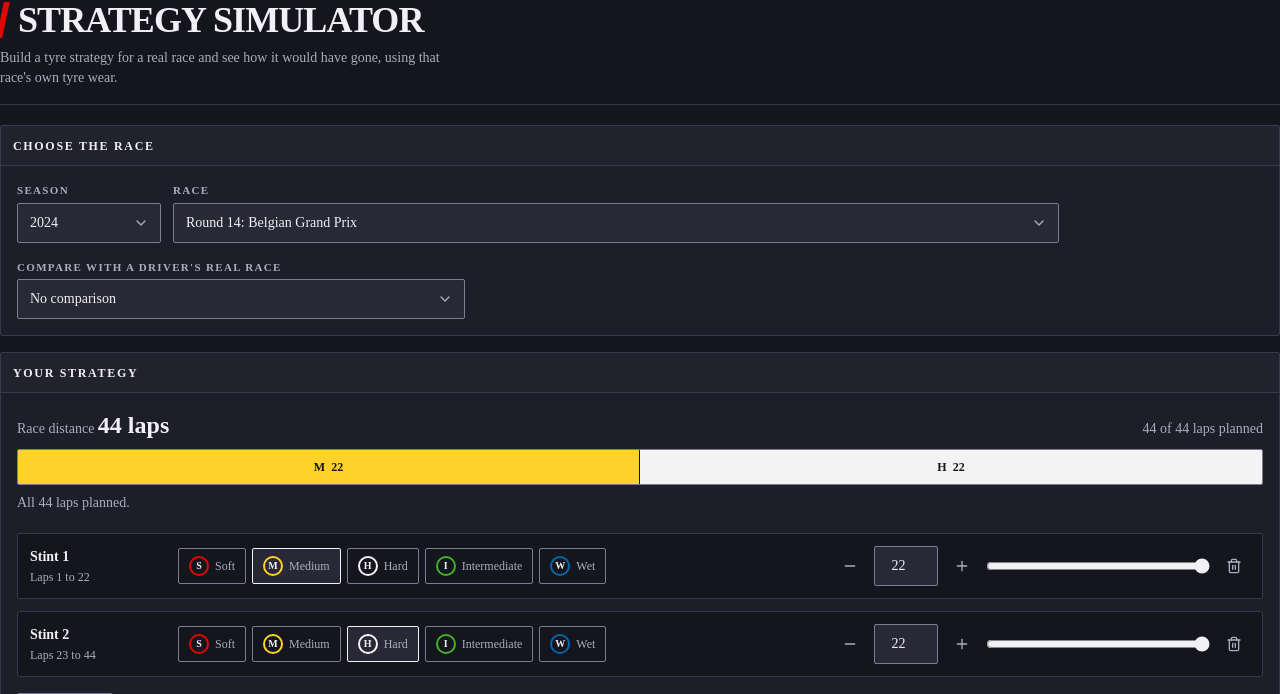
Test case: StrategyTool › won't simulate a plan that doesn't cover the race, and says how many laps are missing
Replace the text in the number field named "Stint 2 laps" with "10" at {"x": 906, "y": 644}, box [874,624,938,664]
(page scrolled)
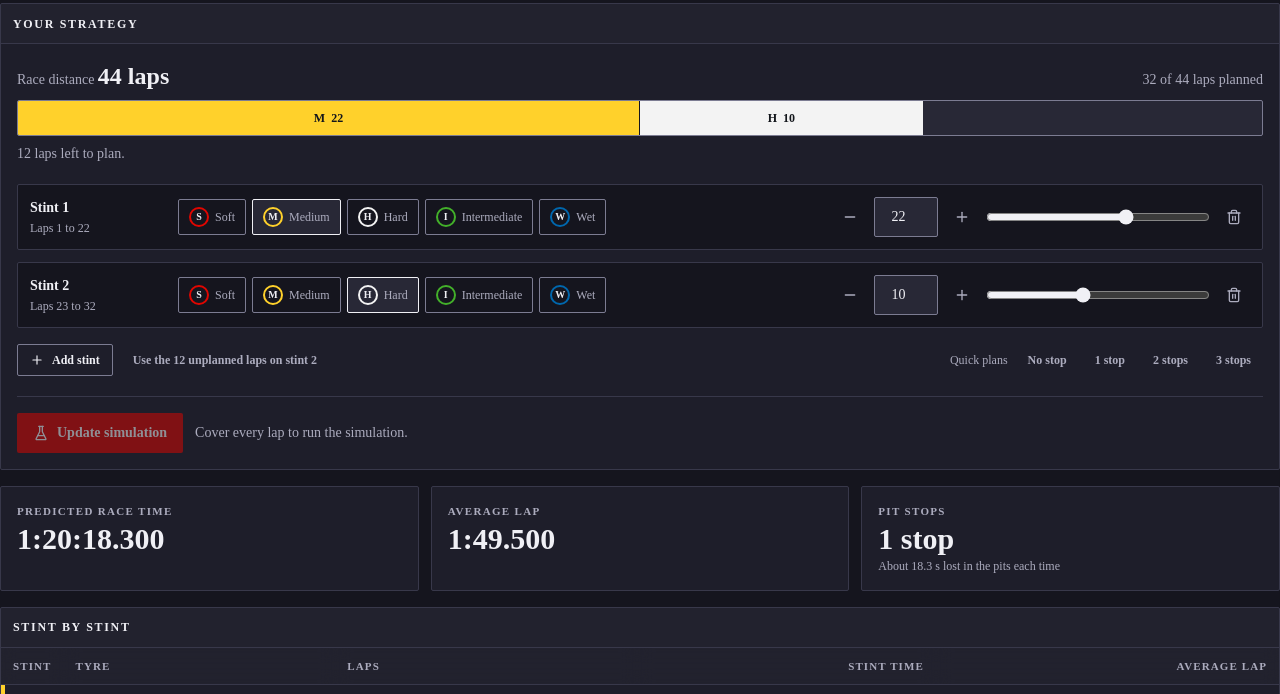
Expected: the text "12 laps left to plan." is shown, [17,146,125,161]
Expected: the button "Update simulation" is disabled, [17,413,183,453]
Click the button "Use the 12 unplanned laps on stint 2" at {"x": 225, "y": 360}, box [121,344,329,376]
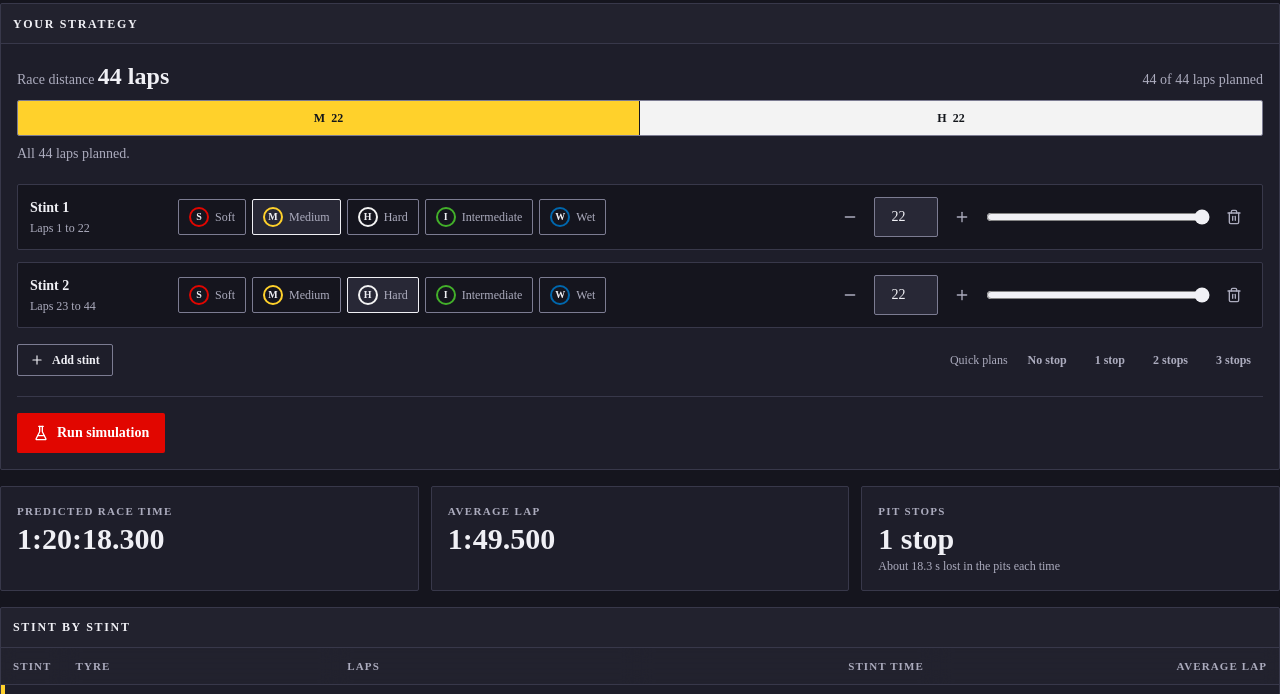
Expected: the button "Run simulation" is enabled, [17,413,165,453]
